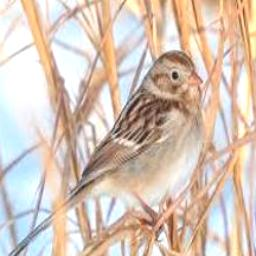Sparrow: (8, 50, 204, 256)
